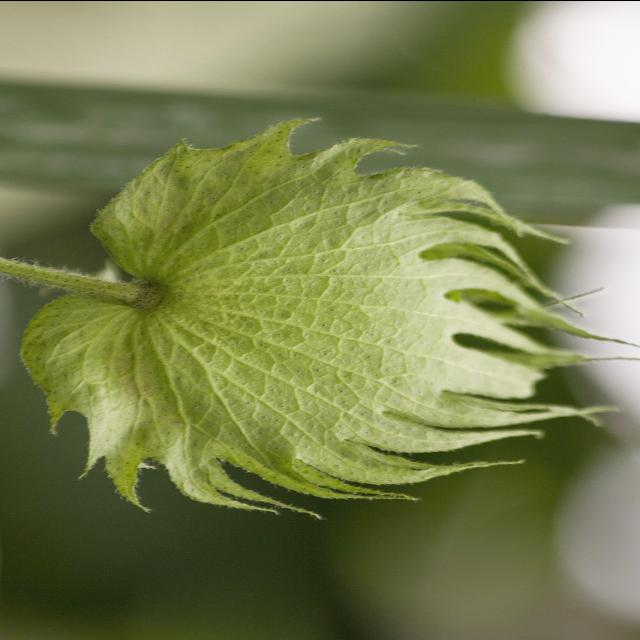Cotton Bud: (22, 115, 580, 522)
